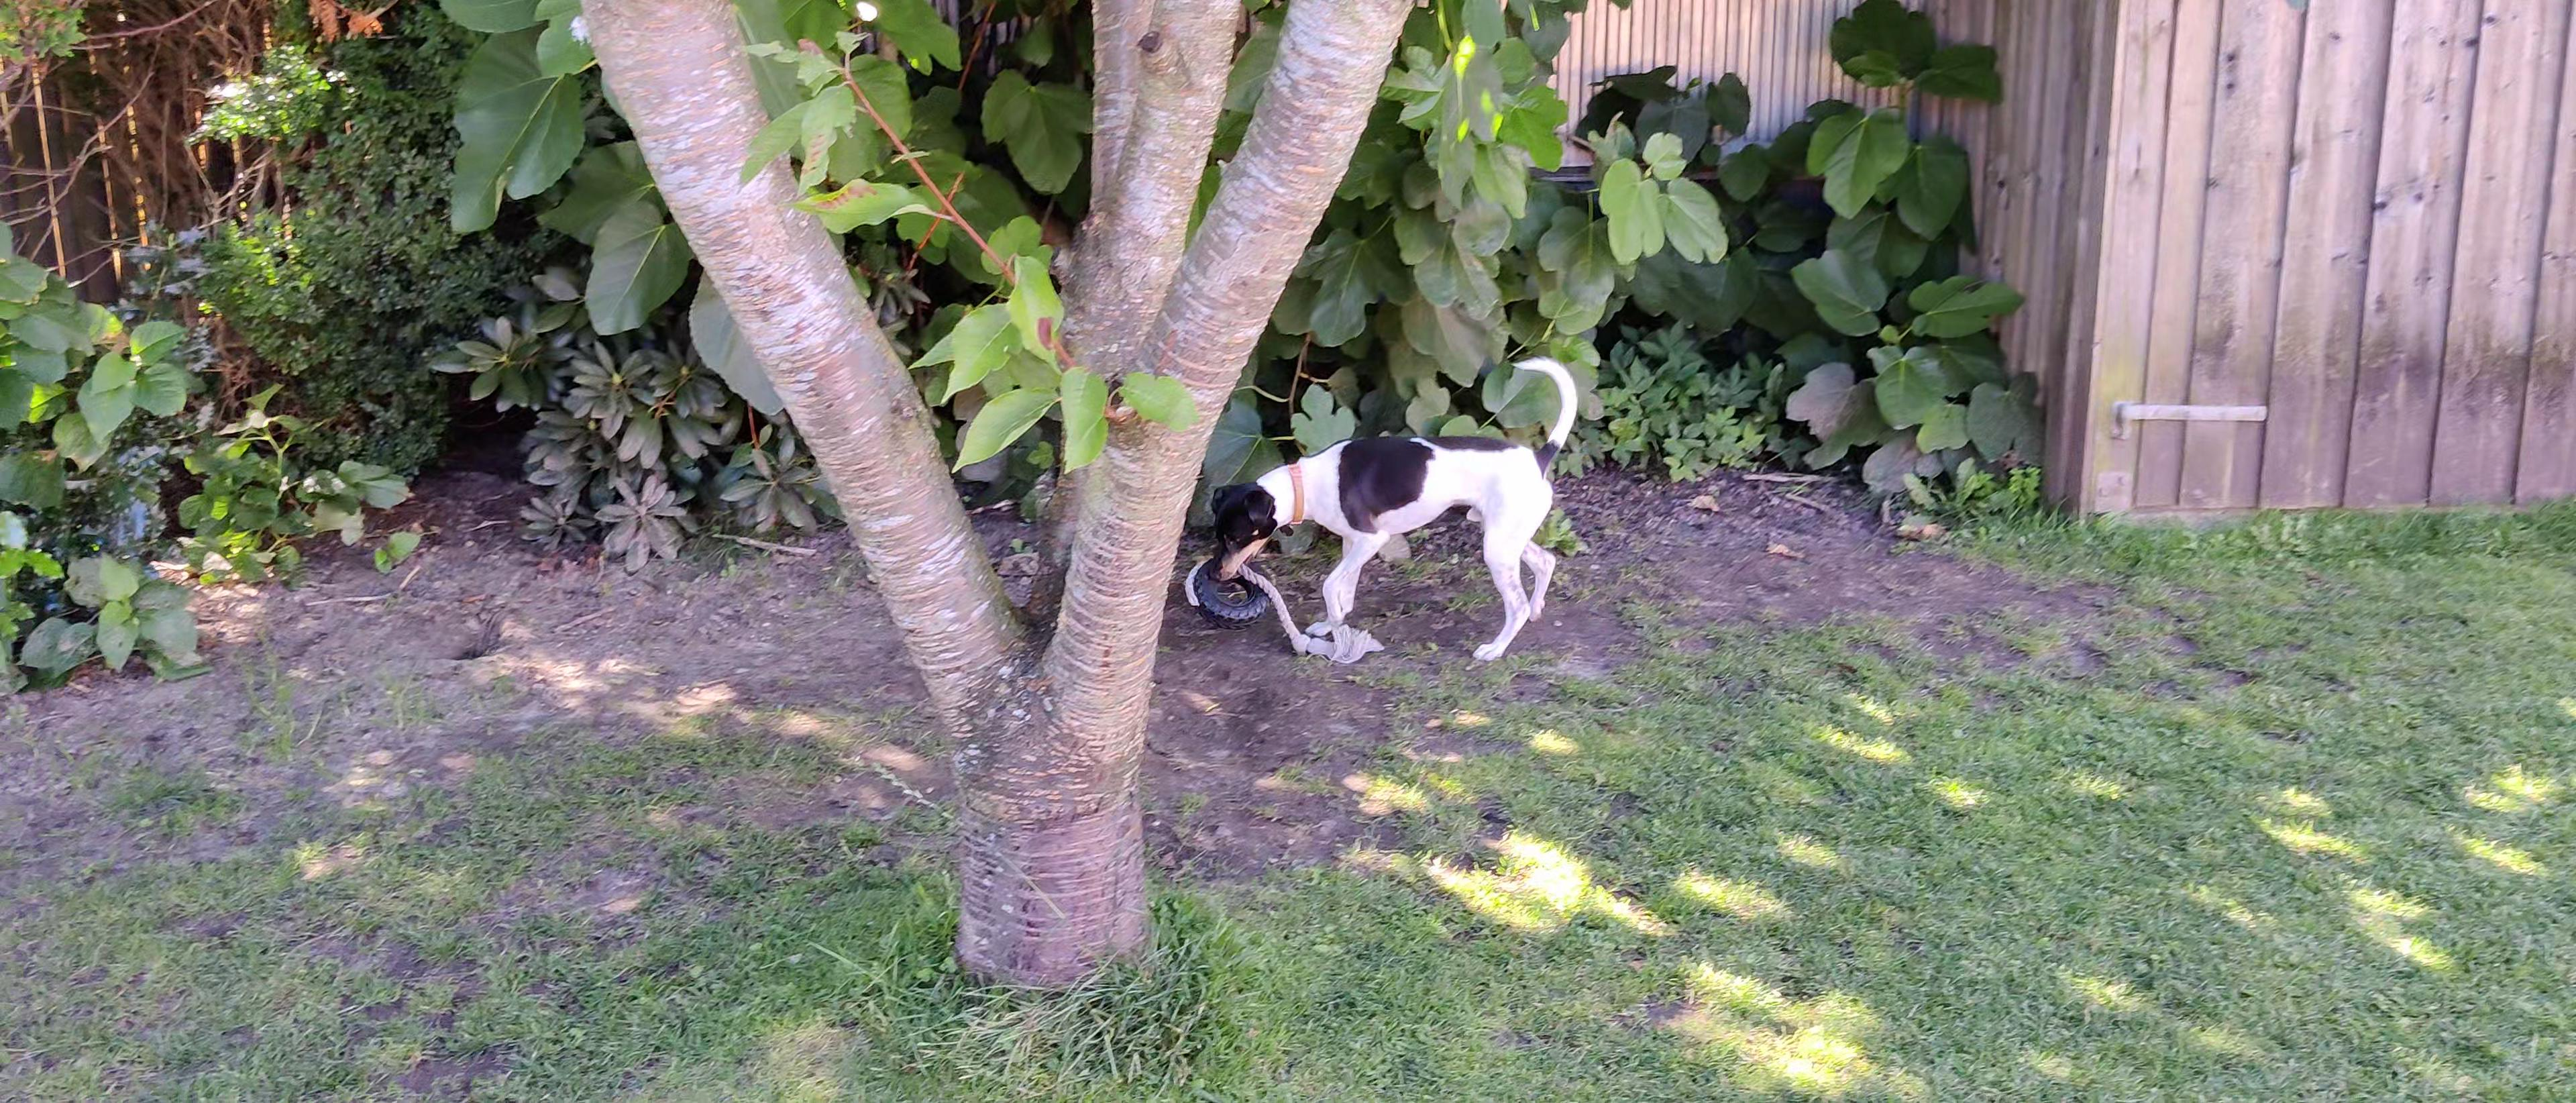Dog: (1203, 353, 1584, 662)
